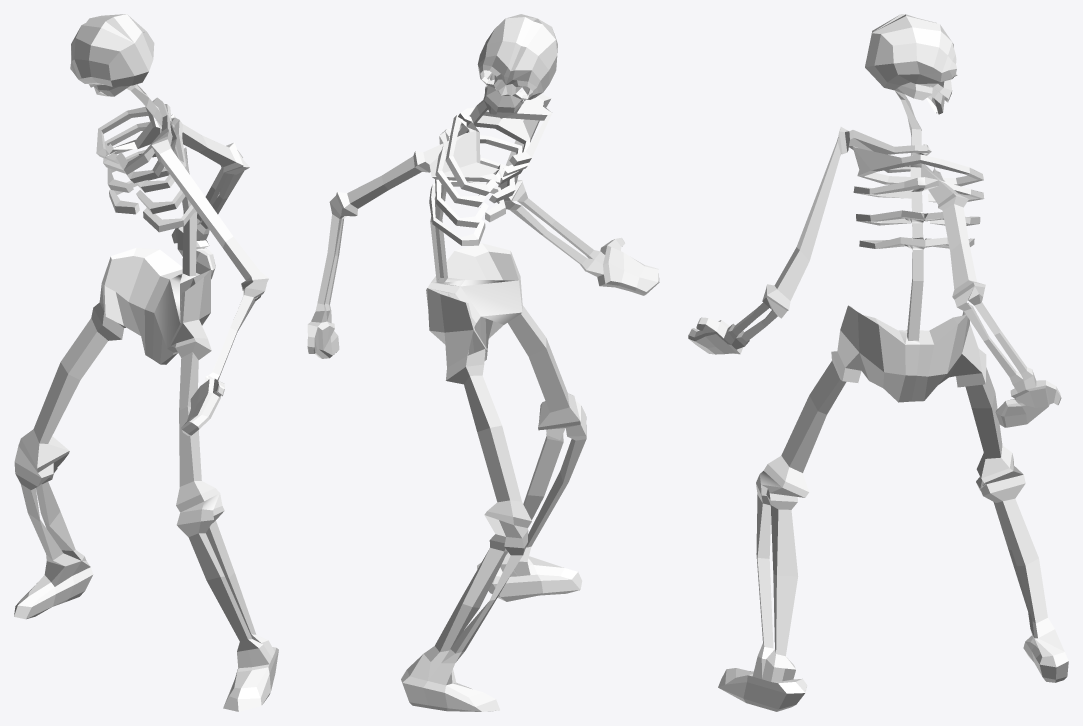
The model's file is SkeletonIdle(72).obj.
The picture shows the model from 3 angles, left to right: view 1: azimuth 30°, elevation 25°; view 2: azimuth 150°, elevation 25°; view 3: azimuth 270°, elevation 25°; orthographic projection.
Visible parts, largest first — view 1: Object002; view 2: Object002; view 3: Object002.
Part boxes in pixels (x1,y1,x2,y2): Object002: (14,14,278,711); Object002: (307,14,659,711); Object002: (688,14,1068,711).
Size of the model in its own units: 389 by 1132 by 601.
